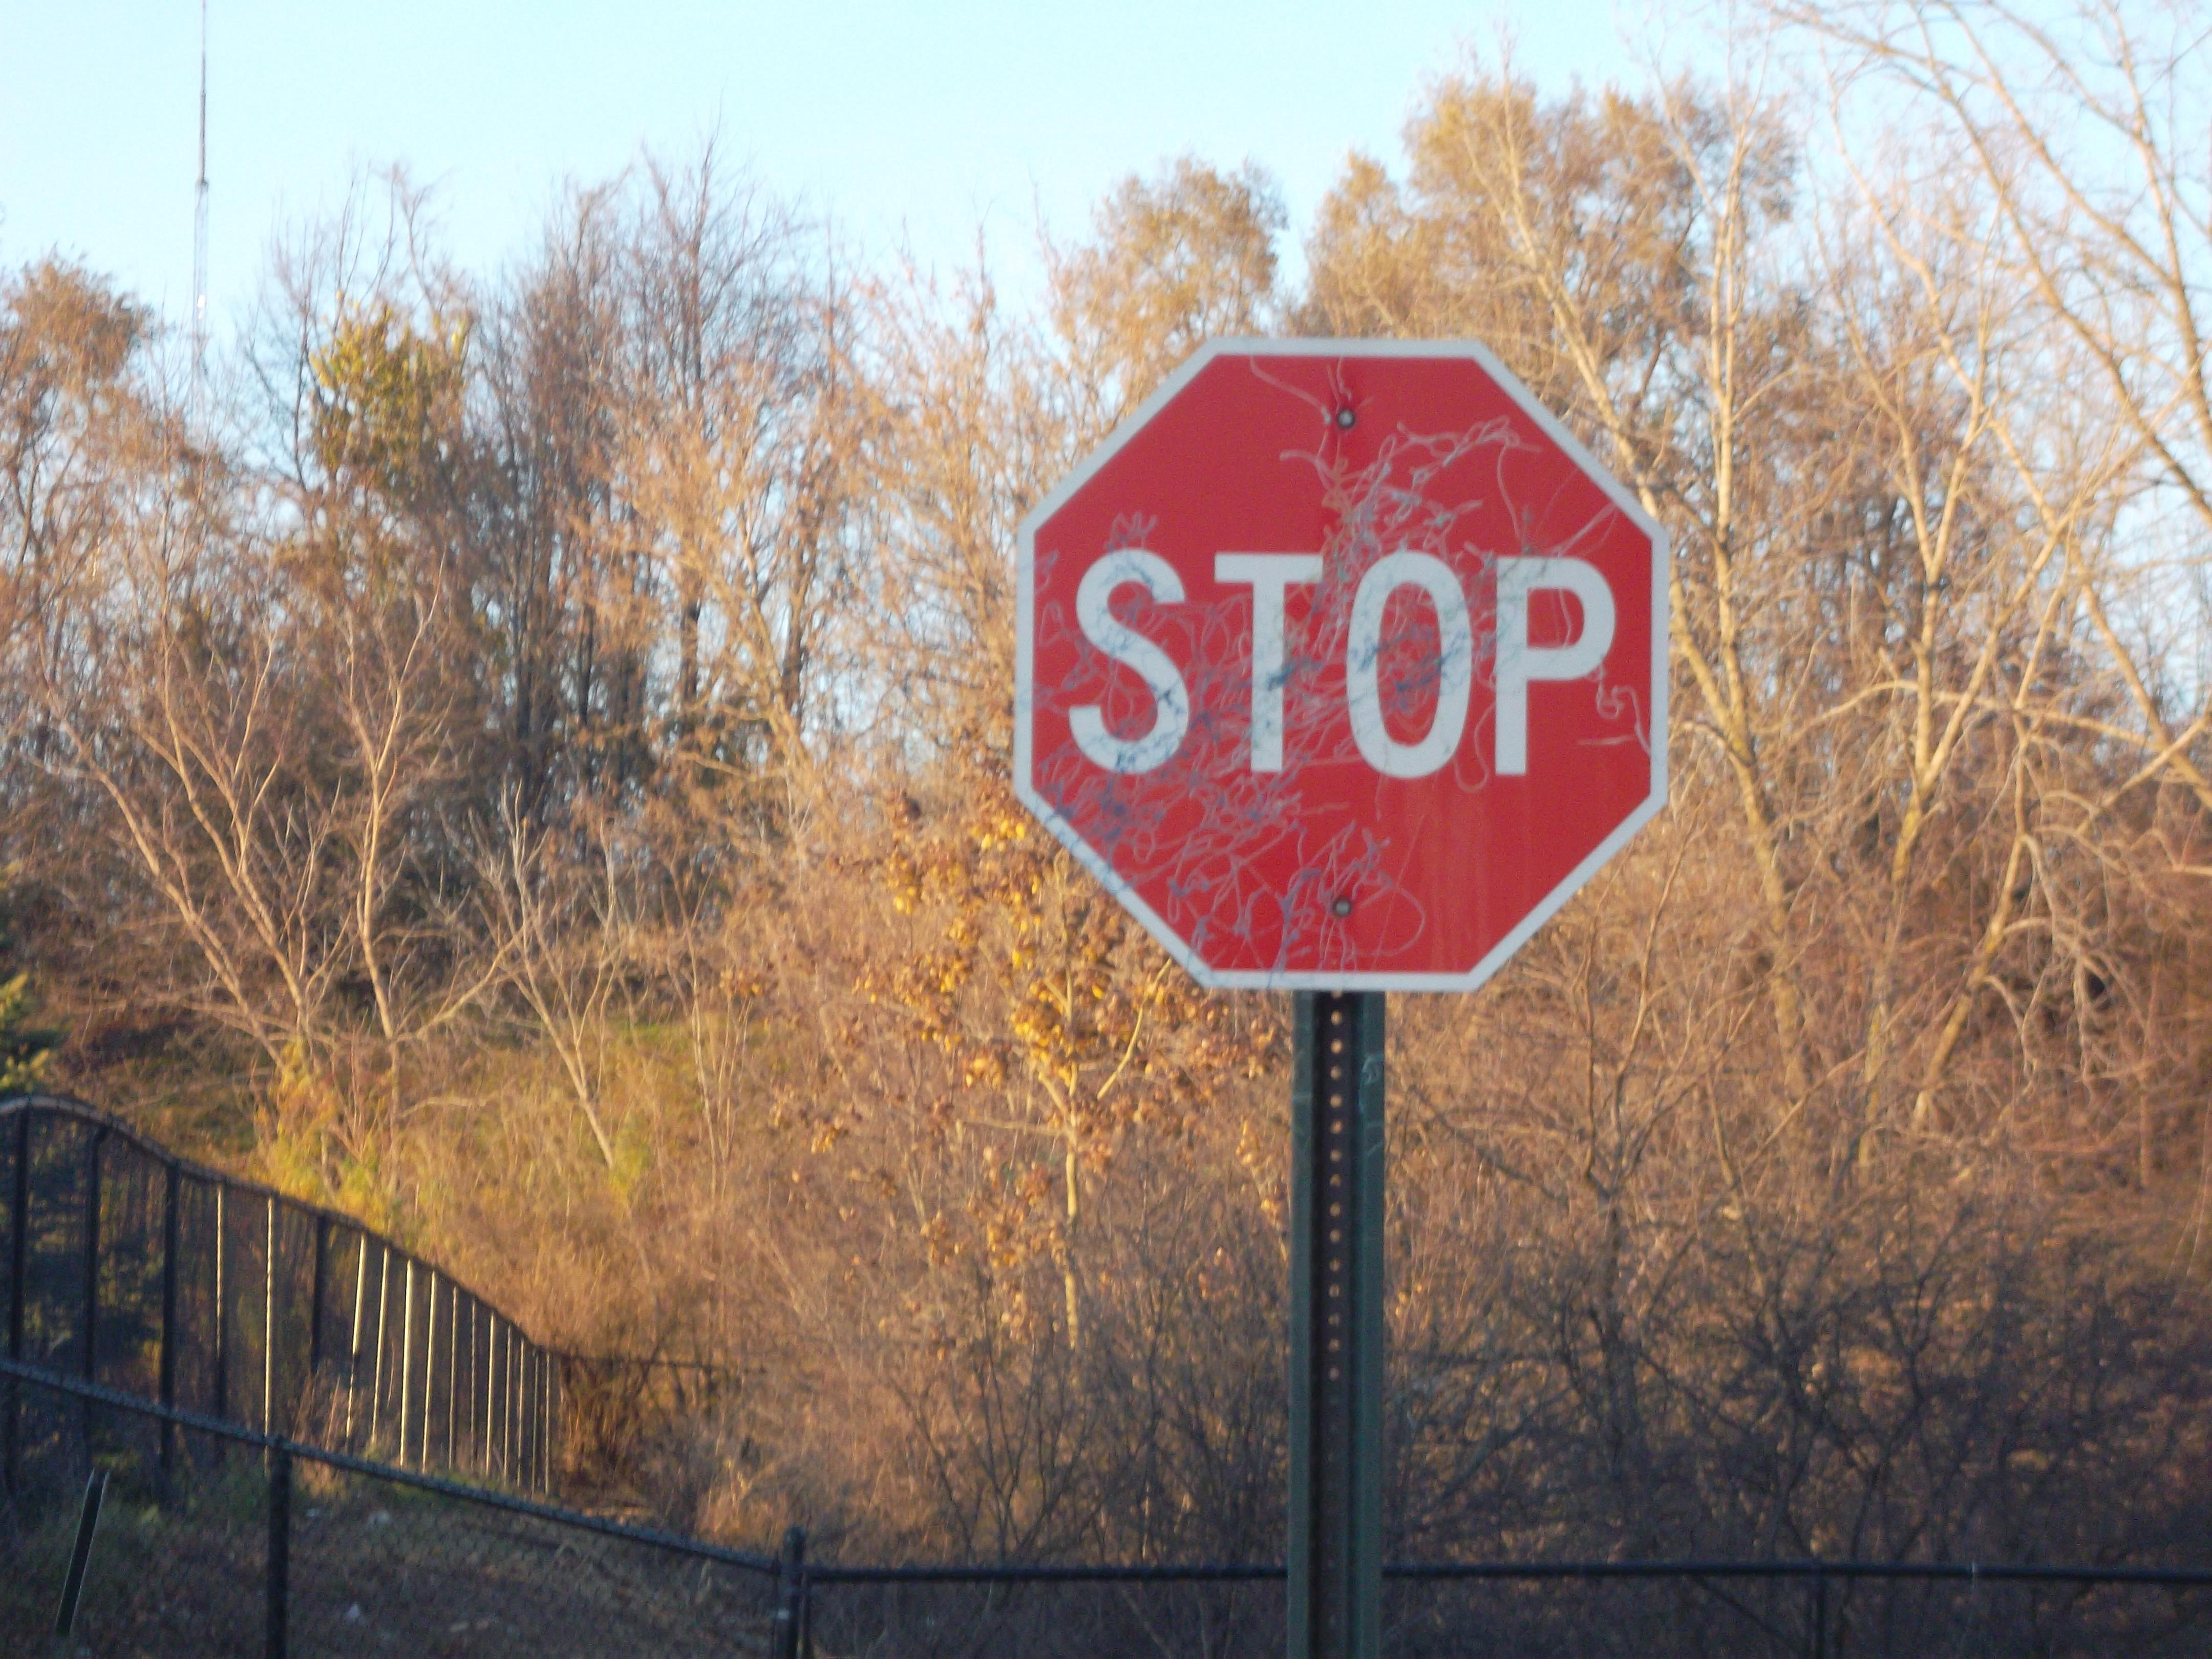stop: (1008, 340, 1667, 990)
